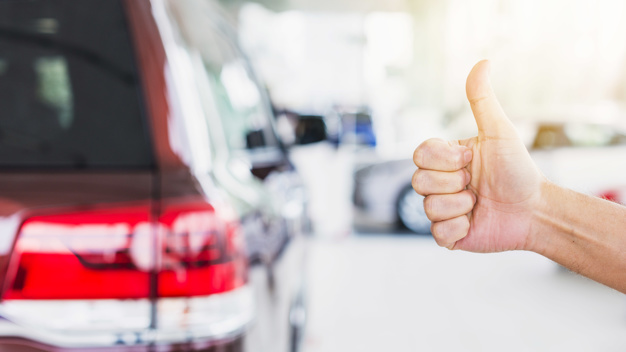thumbsup: (412, 59, 505, 253)
